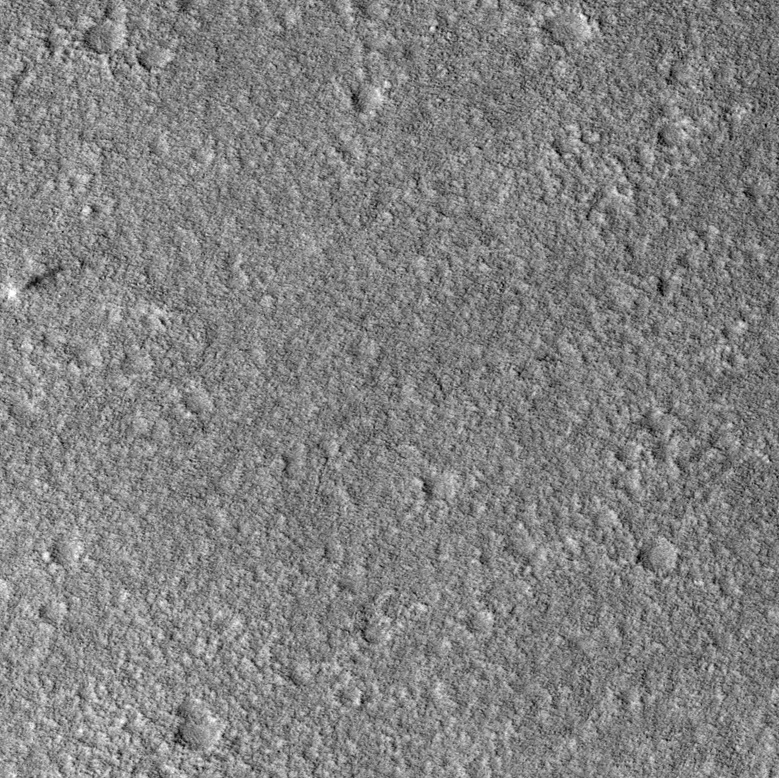dust_devil: (6, 263, 67, 302)
